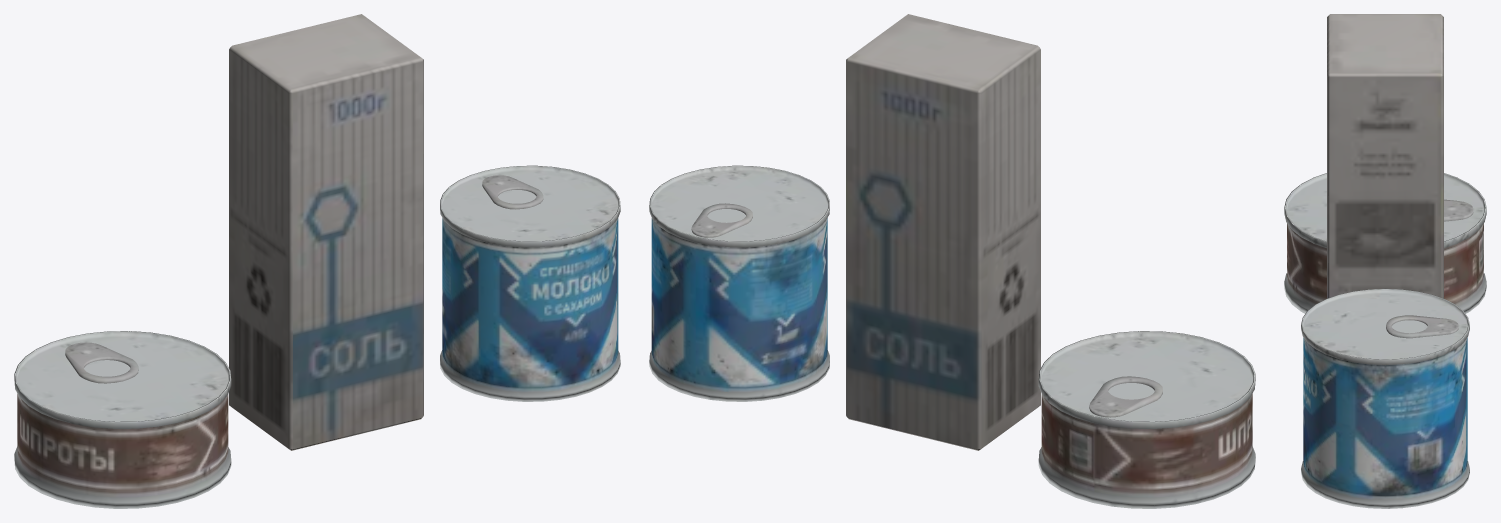
File: russian_food_cans_01.glb
3 renders of one model, left to right at view 1: azimuth 30°, elevation 25°; view 2: azimuth 150°, elevation 25°; view 3: azimuth 270°, elevation 25°, orthographic. The views are drawn at different scales.
Visible parts, largest first — view 1: russian_food_cans_01_salt_box; view 2: russian_food_cans_01_salt_box; view 3: russian_food_cans_01_salt_box.
Part boxes in pixels (bbox=[...]): russian_food_cans_01_salt_box: bbox=[14, 14, 620, 508]; russian_food_cans_01_salt_box: bbox=[649, 14, 1255, 508]; russian_food_cans_01_salt_box: bbox=[1284, 14, 1486, 508].
Size of the model in its own units: 0.1424 by 0.0849 by 0.0462.
1 material, 1 textured.
